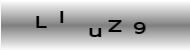9: (133, 21, 146, 35)
L: (35, 15, 48, 29)
Z: (107, 19, 122, 32)
l: (58, 10, 63, 23)
u: (88, 26, 102, 37)
